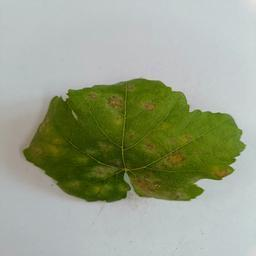Powdery-Mildew: (140, 130, 190, 170)
